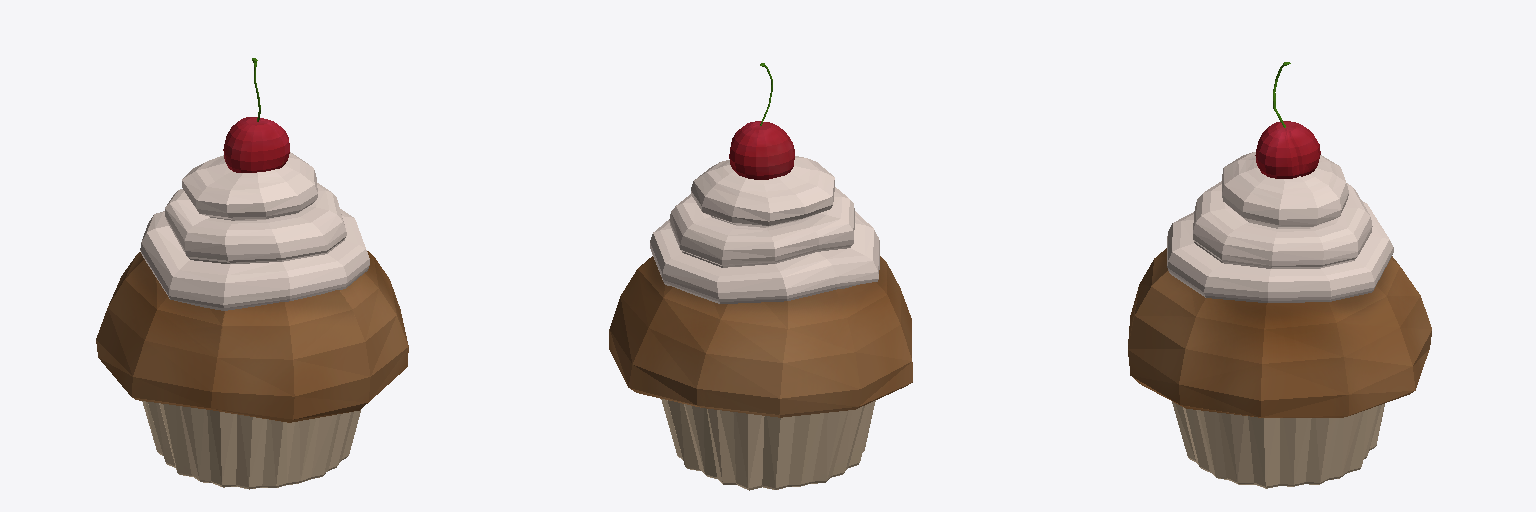
The picture shows the model from 3 angles: view 1: azimuth 30°, elevation 25°; view 2: azimuth 150°, elevation 25°; view 3: azimuth 270°, elevation 25°; orthographic projection.
Visible parts, largest first — view 1: Cupcake_Cylinder, Cream_Cylinder.001, Cherry_Sphere; view 2: Cupcake_Cylinder, Cream_Cylinder.001, Cherry_Sphere; view 3: Cupcake_Cylinder, Cream_Cylinder.001, Cherry_Sphere.
Boxes of the visible parts, <box> form: Cupcake_Cylinder: <box>96,251,408,489</box>; Cream_Cylinder.001: <box>140,152,369,310</box>; Cherry_Sphere: <box>223,58,289,172</box>; Cupcake_Cylinder: <box>609,256,912,490</box>; Cream_Cylinder.001: <box>650,156,879,303</box>; Cherry_Sphere: <box>729,63,794,179</box>; Cupcake_Cylinder: <box>1128,248,1431,488</box>; Cream_Cylinder.001: <box>1167,152,1393,302</box>; Cherry_Sphere: <box>1255,62,1320,178</box>.
Size of the model in its own units: 0.9343 by 1.29 by 0.9147.
3 materials, 3 textured.